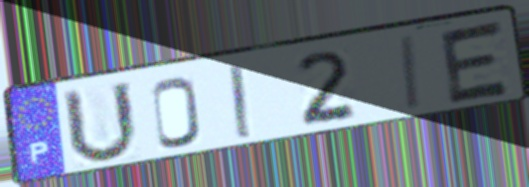0: (149, 75, 204, 152)
2: (298, 48, 361, 131)
E: (437, 17, 515, 108)
I: (226, 62, 257, 142), (399, 32, 425, 114)
U: (59, 79, 142, 167)
